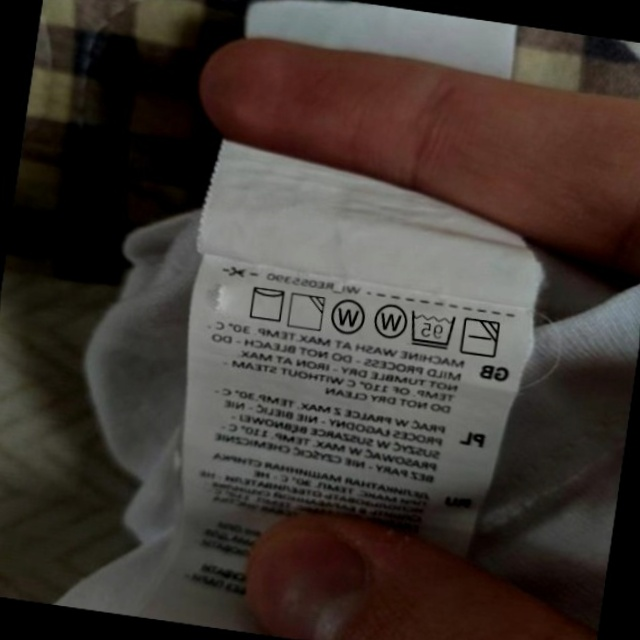95C: (405, 307, 458, 351)
dry_flat_in_shade: (458, 313, 503, 361)
line_dry: (244, 281, 289, 325)
shade_dry: (284, 289, 328, 334)
wet_clean: (369, 297, 410, 342), (327, 295, 368, 339)
